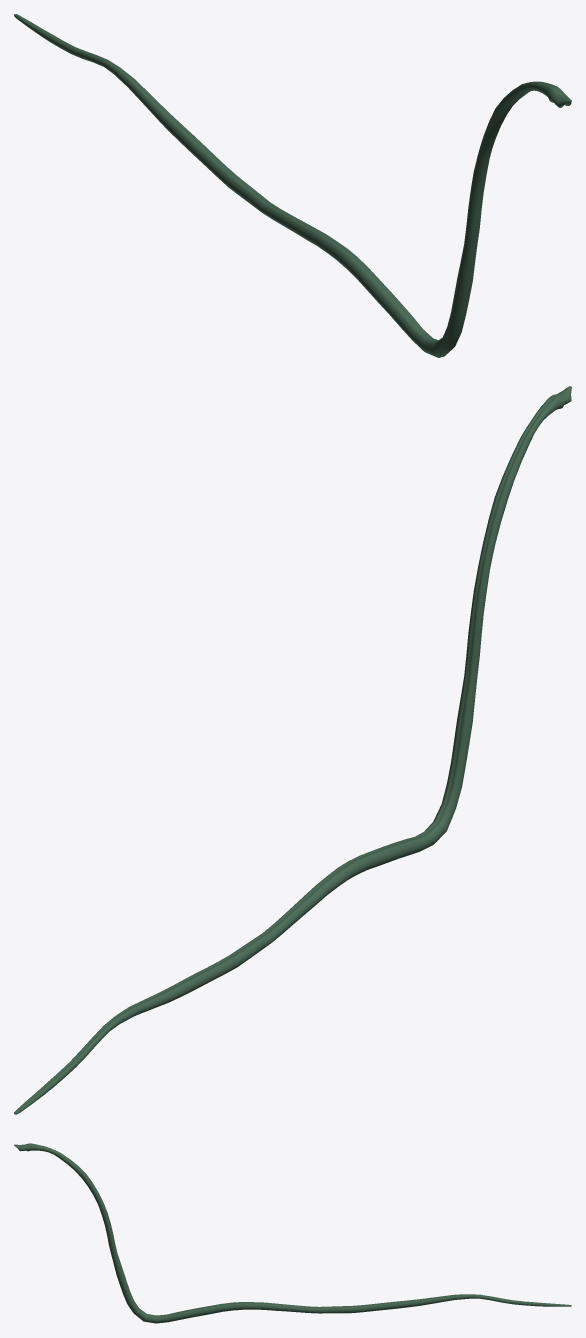
The model's file is medulla spinalis.fbx.
The picture shows the model from 3 angles, top to bottom: view 1: azimuth 30°, elevation 25°; view 2: azimuth 150°, elevation 25°; view 3: azimuth 270°, elevation 25°; orthographic projection. The views are drawn at different scales.
Visible parts, largest first — view 1: medulla spinalis; view 2: medulla spinalis; view 3: medulla spinalis.
Part boxes in pixels (box(x1,y1,x2,y2)): medulla spinalis: box(14, 14, 571, 357); medulla spinalis: box(14, 386, 571, 1114); medulla spinalis: box(14, 1143, 571, 1323).
Bounding box in the file's own units: 2.63 × 60.14 × 170.
